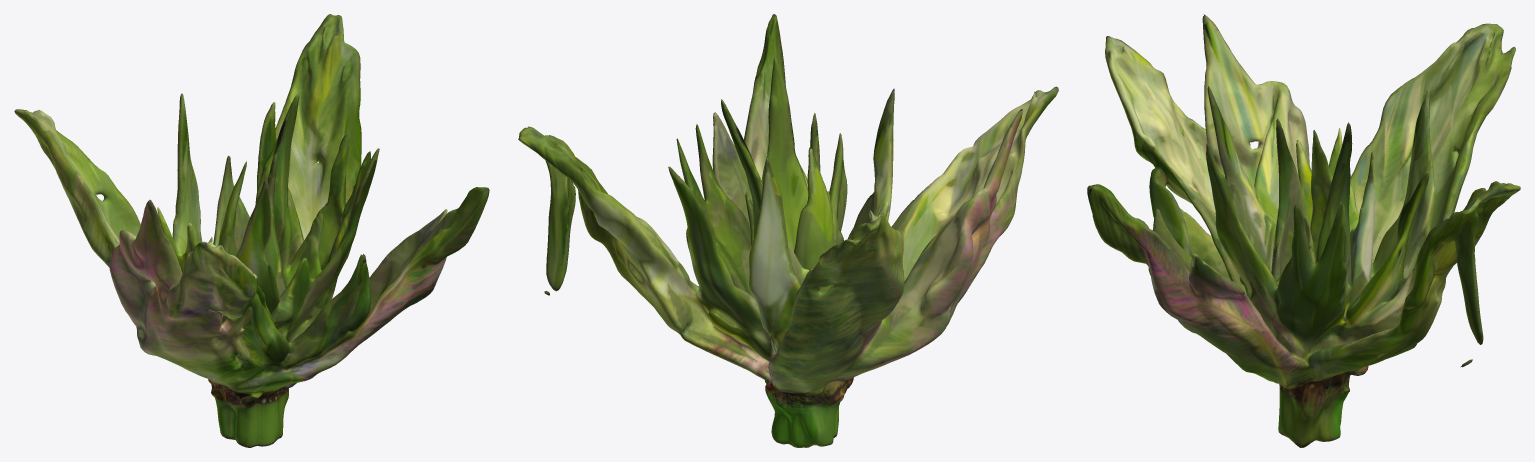
The model's file is HERB0047.gltf.
3 renders of one model, left to right at view 1: azimuth 30°, elevation 25°; view 2: azimuth 150°, elevation 25°; view 3: azimuth 270°, elevation 25°, orthographic. The views are drawn at different scales.
Parts seen in each view (by area): view 1: Mesh_0.017; view 2: Mesh_0.017; view 3: Mesh_0.017.
Boxes of the visible parts, <box> form: Mesh_0.017: <box>14,14,489,447</box>; Mesh_0.017: <box>518,14,1058,447</box>; Mesh_0.017: <box>1087,14,1520,447</box>.
Bounding box in the file's own units: 1.9 × 1.76 × 1.99.
1 material, 1 textured.
